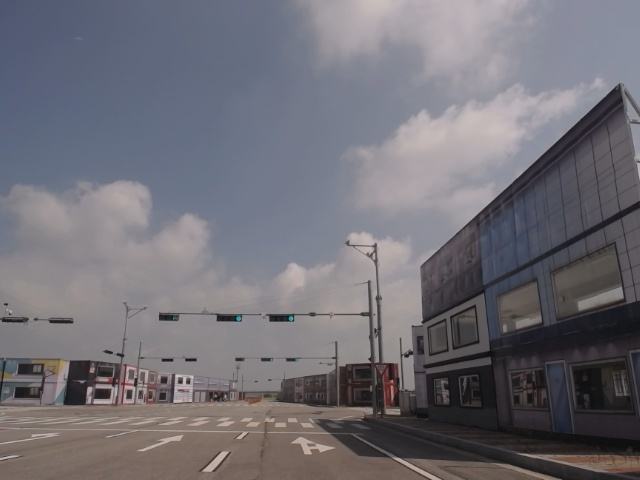straight_green_4: (269, 313, 295, 323), (216, 313, 243, 322)
